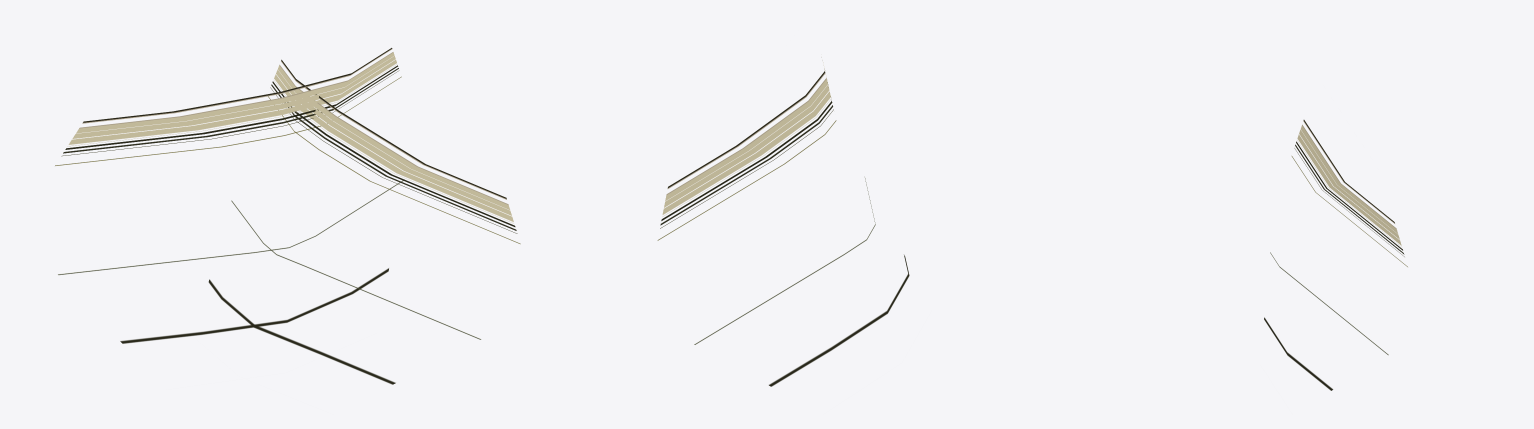
Rendered from SM_FOL_Grass_Clump_04_A.glb.
3 renders of one model, left to right at view 1: azimuth 30°, elevation 25°; view 2: azimuth 150°, elevation 25°; view 3: azimuth 270°, elevation 25°, orthographic. The views are drawn at different scales.
Parts seen in each view (by area): view 1: SM_FOL_Grass_Clump_04_A; view 2: SM_FOL_Grass_Clump_04_A; view 3: SM_FOL_Grass_Clump_04_A.
Boxes of the visible parts, x1,y1,x2,y2 form: SM_FOL_Grass_Clump_04_A: (55, 48, 520, 384); SM_FOL_Grass_Clump_04_A: (657, 62, 909, 386); SM_FOL_Grass_Clump_04_A: (1264, 120, 1407, 390).
Size of the model in its own units: 0.5646 by 0.4001 by 0.5634.
1 material, 1 textured.
